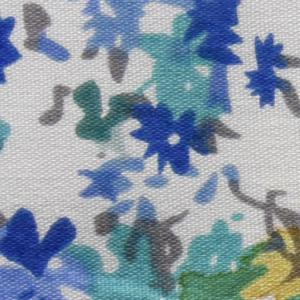Oil Stain: (177, 223, 300, 300)
